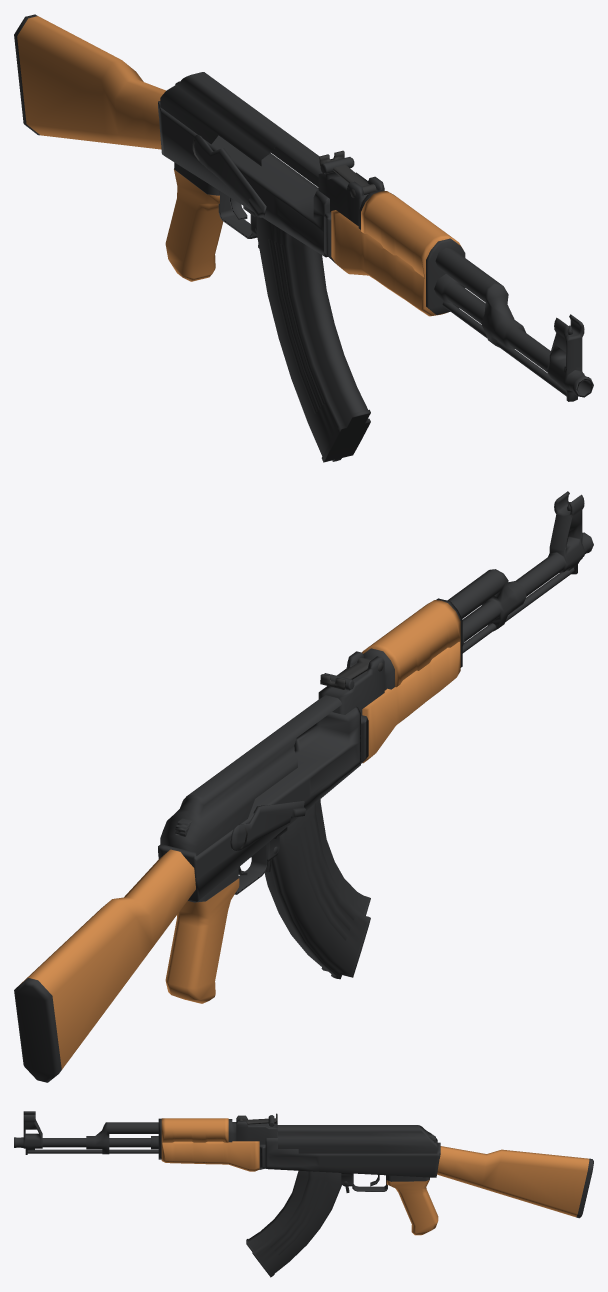
The model's file is Gun03.fbx.
3 renders of one model, top to bottom at view 1: azimuth 30°, elevation 25°; view 2: azimuth 150°, elevation 25°; view 3: azimuth 270°, elevation 25°, orthographic. The views are drawn at different scales.
Parts seen in each view (by area): view 1: Gun01, Gun02, Gun04; view 2: Gun01, Gun02; view 3: Gun01, Gun02.
Part boxes in pixels (x1=…): Gun01: x1=14, y1=14, x2=593, y2=462; Gun02: x1=17, y1=16, x2=463, y2=316; Gun04: x1=192, y1=139, x2=376, y2=197; Gun01: x1=14, y1=491, x2=593, y2=1082; Gun02: x1=20, y1=600, x2=460, y2=1069; Gun01: x1=14, y1=1111, x2=593, y2=1277; Gun02: x1=161, y1=1118, x2=589, y2=1235.
Size of the model in its own units: 10.45 by 70.14 by 227.
